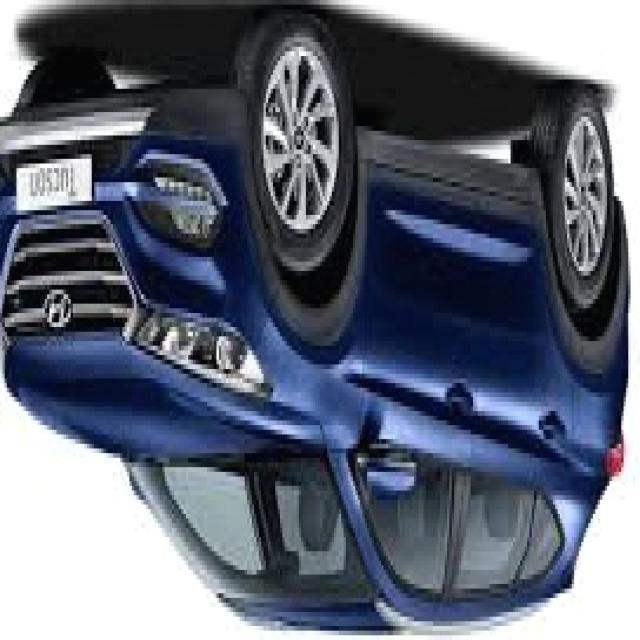blue: (0, 14, 631, 635)
